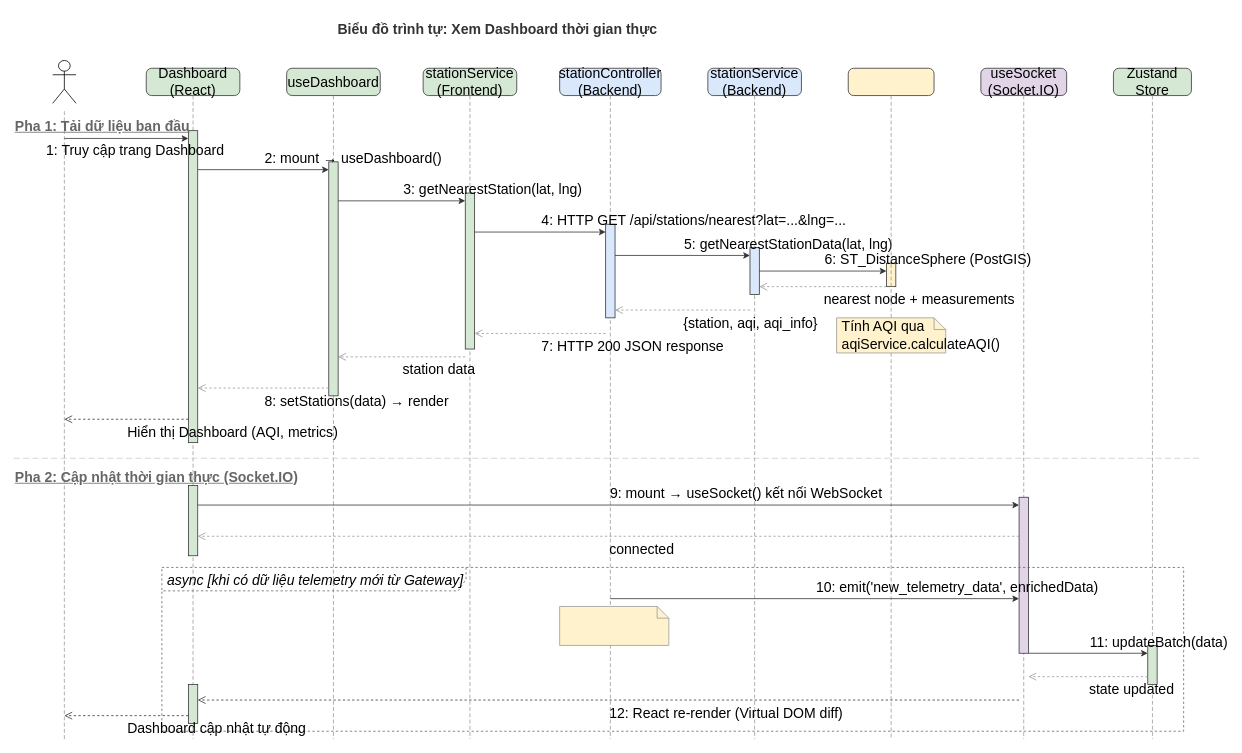
Image size: 1242x753. Some labels were removed from this diagram. Here are the shapes that lost their labels. From the top down, the box of each, then its label:
(52, 60, 76, 103): Người dùng
(847, 67, 934, 96): PostgreSQL (PostGIS)
(559, 606, 669, 645): Từ Backend telemetryController (xem biểu đồ 1)
